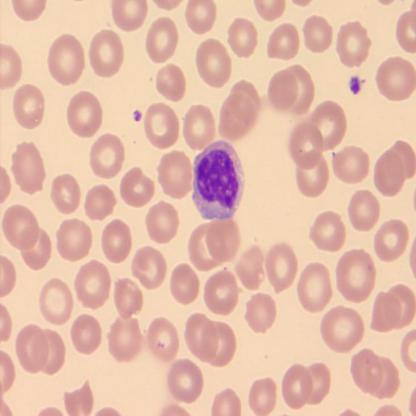Metamyelocyte: (190, 137, 248, 222)
